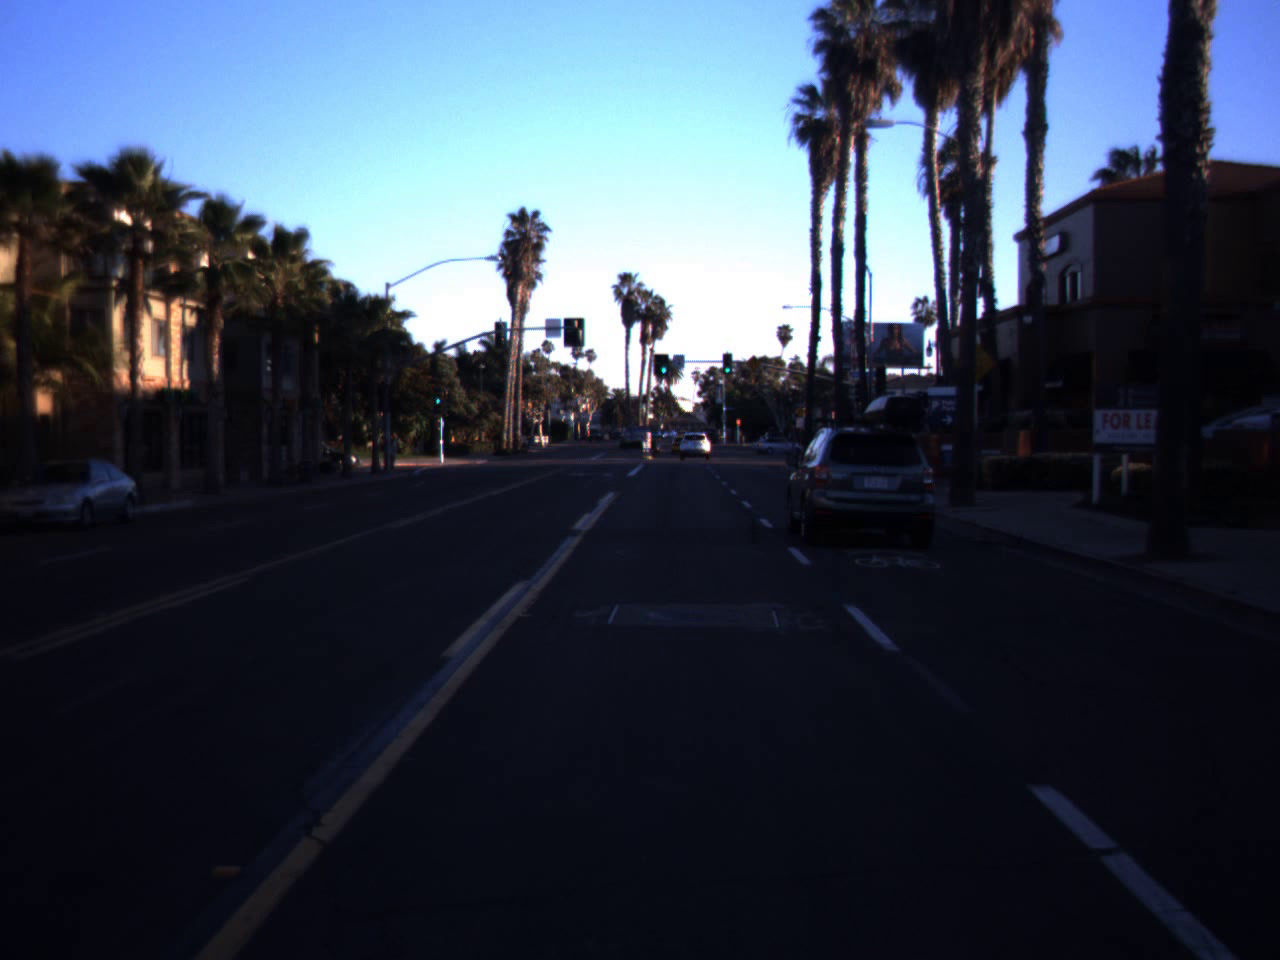go: (432, 385, 444, 405), (722, 354, 734, 374)
